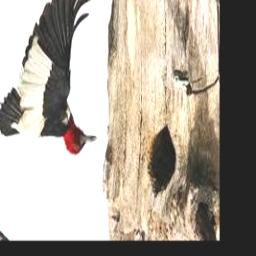Woodpecker: (0, 0, 96, 155)
